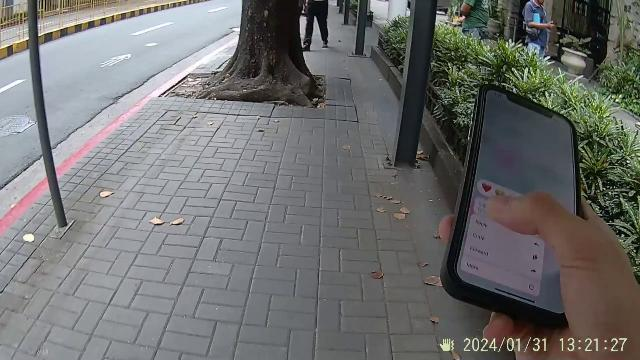tree: (209, 3, 323, 108)
utility_post: (0, 0, 98, 244)
